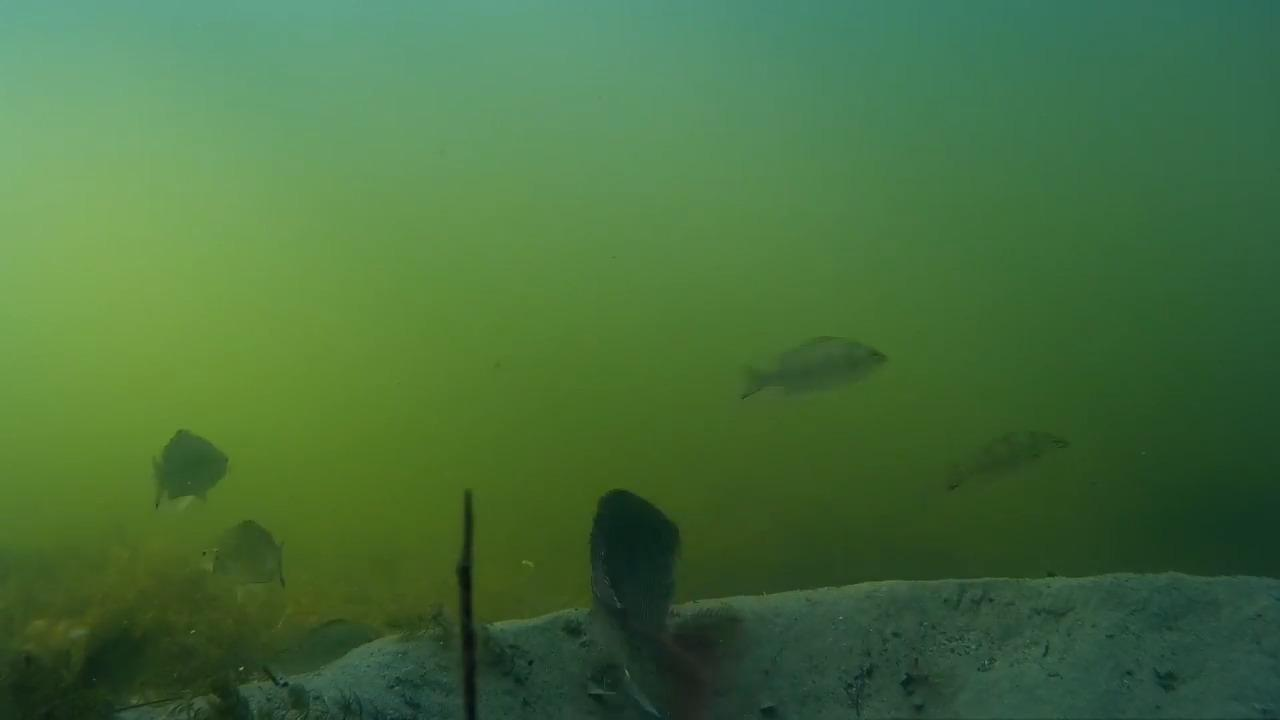Tilapia: (557, 486, 726, 702), (739, 332, 887, 413), (186, 508, 299, 606), (935, 421, 1075, 495), (138, 422, 235, 502)
